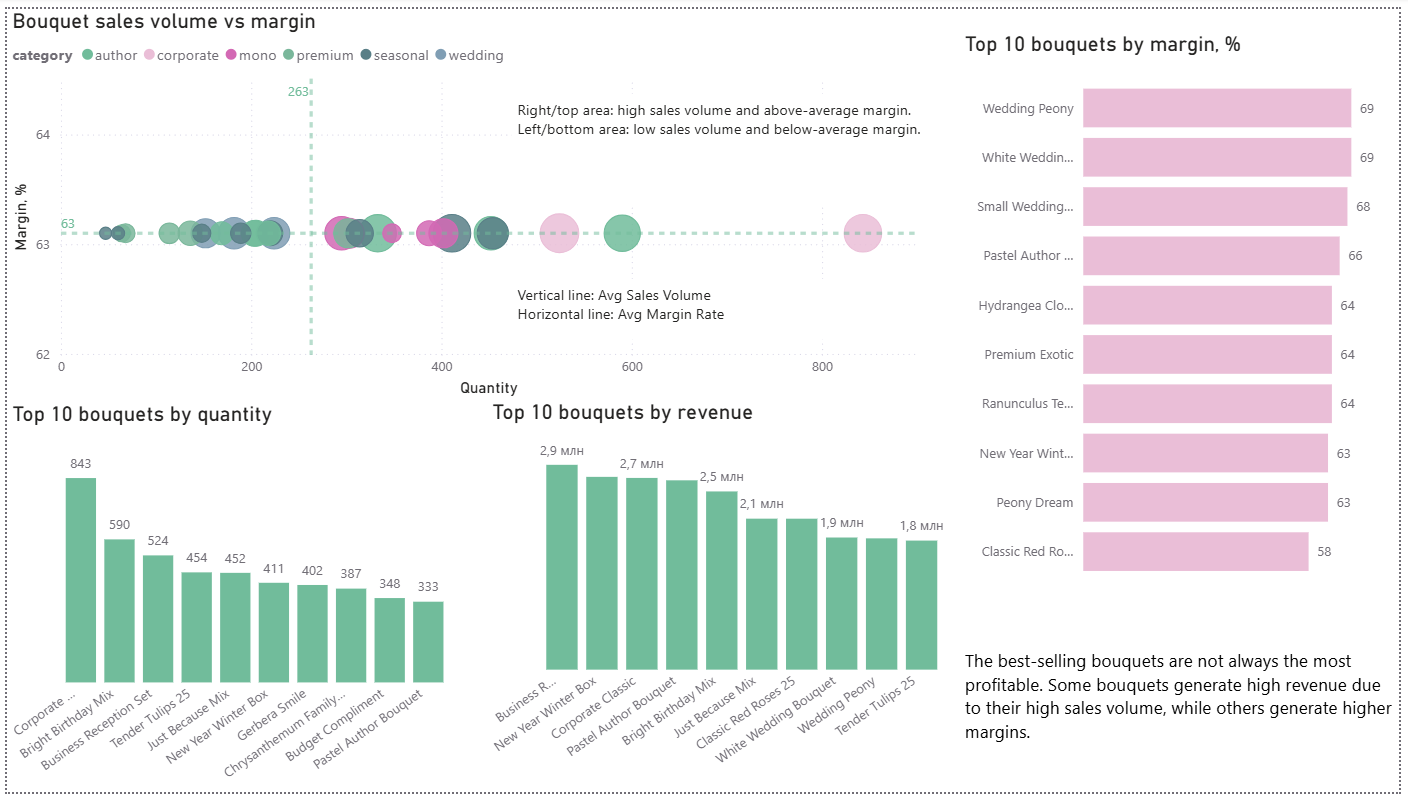

The dashboard page shown, as its layout file describes it:
{"tool":"powerbi","page":{"name":"Assortment & Margin","canvas":[1280,720],"ordinal":2},"visuals":[{"type":"columnChart","title":"Top 10 bouquets by revenue","fields":{"Category":["public bouquets.bouquet_name"],"Y":["Measuress.Revenue"]},"box":[441.9,359.5,433.6,360.9],"z":0},{"type":"columnChart","title":"Top 10 bouquets by quantity","fields":{"Category":["public bouquets.bouquet_name"],"Y":["Measuress.Bouquets Sold"]},"box":[0,360.9,421.3,359.5],"z":1000},{"type":"actionButton","box":[0,0,100,40],"z":2000},{"type":"barChart","title":"Top 10 bouquets by margin,  %","fields":{"Category":["03_margin_by_bouquet.bouquet_name"],"Y":["Avg(03_margin_by_bouquet.margin_part)"]},"box":[875.5,20.6,404.8,520.1],"z":3000},{"type":"scatterChart","title":"Bouquet sales volume vs margin","fields":{"X":["Measuress.Bouquets Sold"],"Y":["Avg(03_margin_by_bouquet.margin_part)"],"Size":["Measuress.Revenue"],"Series":["public bouquets.bouquet_category"],"Category":["public bouquets.bouquet_name"]},"box":[0,0,852.1,360.9],"z":4000},{"type":"textbox","box":[463.8,248.4,310.1,54.9],"z":5000},{"type":"textbox","box":[875.5,583.2,404.8,137.2],"z":6000},{"type":"textbox","box":[463.8,78.2,388.3,102.9],"z":7000}]}

Visuals, with their boxes in screenshot pixels (x1, y1, x2, y2), scaled from the page's 1280x720 canvas onto the 1408x802 screenshot:
"Top 10 bouquets by revenue" columnChart: detection(486, 400, 963, 801)
"Top 10 bouquets by quantity" columnChart: detection(0, 402, 463, 801)
actionButton: detection(0, 0, 110, 45)
"Top 10 bouquets by margin,  %" barChart: detection(963, 23, 1407, 602)
"Bouquet sales volume vs margin" scatterChart: detection(0, 0, 937, 402)
textbox: detection(510, 277, 851, 338)
textbox: detection(963, 650, 1407, 801)
textbox: detection(510, 87, 937, 202)
